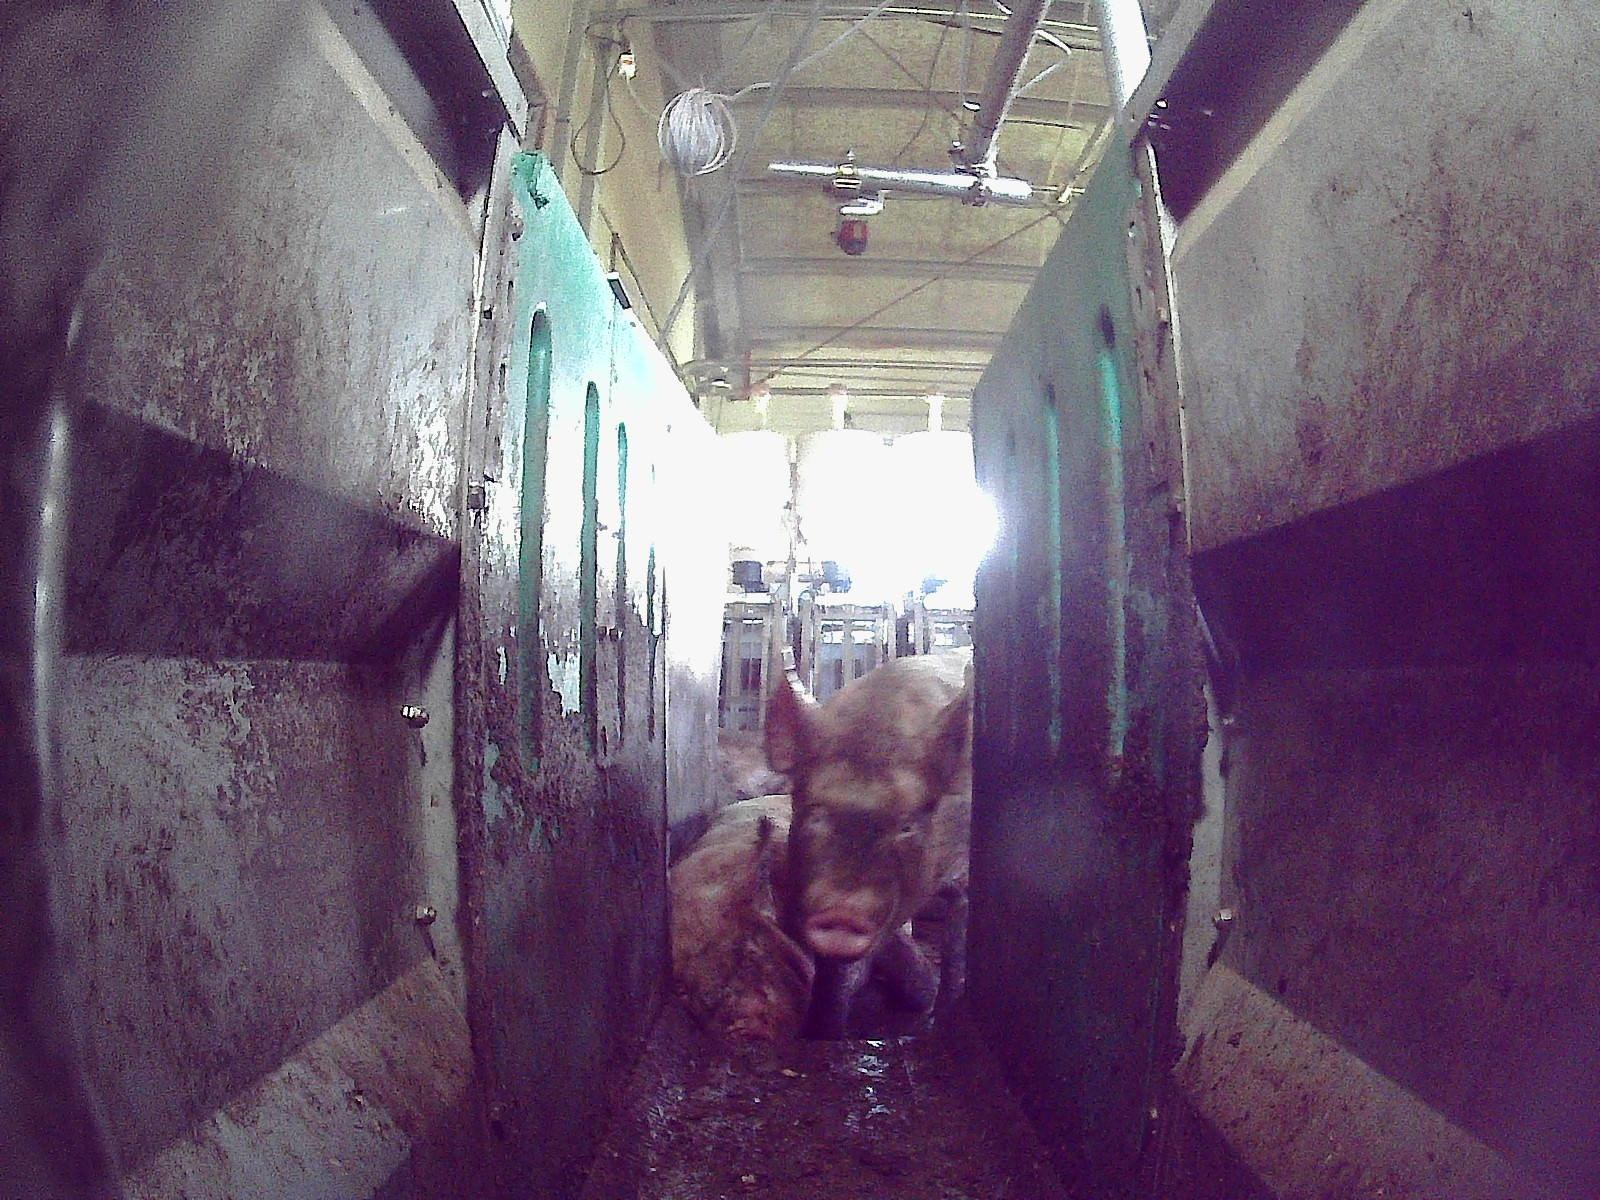Face: (783, 707, 932, 966)
